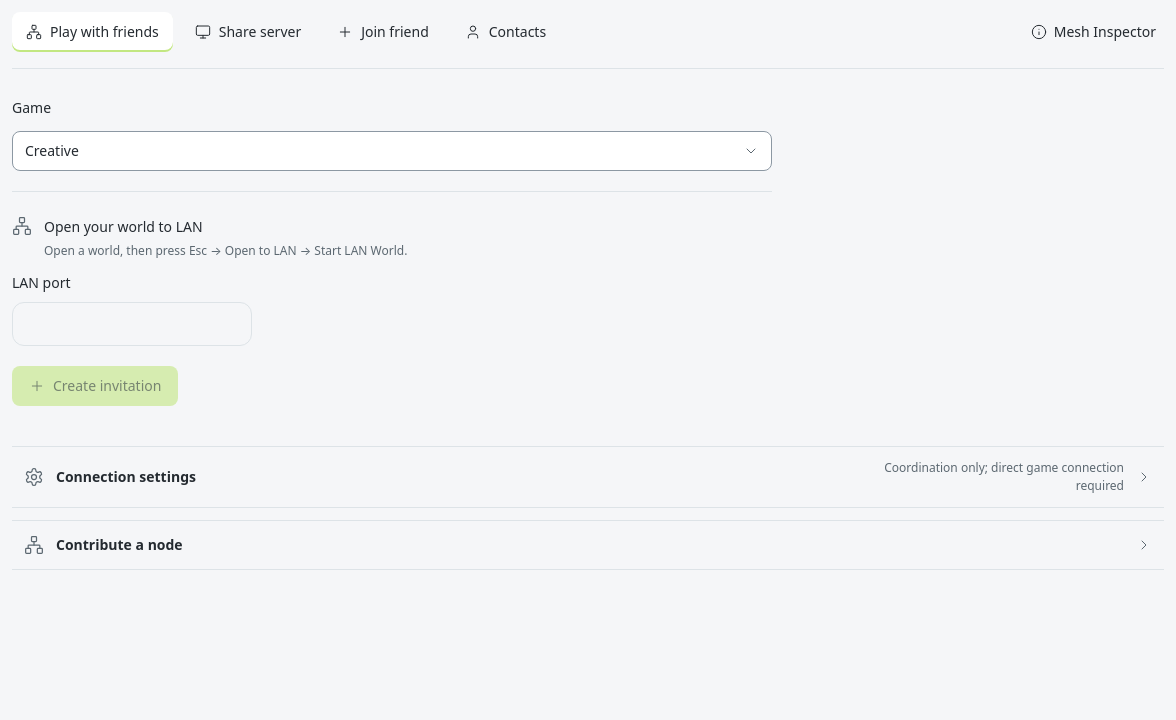
asks for a new invitation when the real protocol rejects an invalid or expired invite
The width and height of the screenshot is (1176, 720).
Click the button "Join friend" at point(383, 32), box [323,12,443,52]
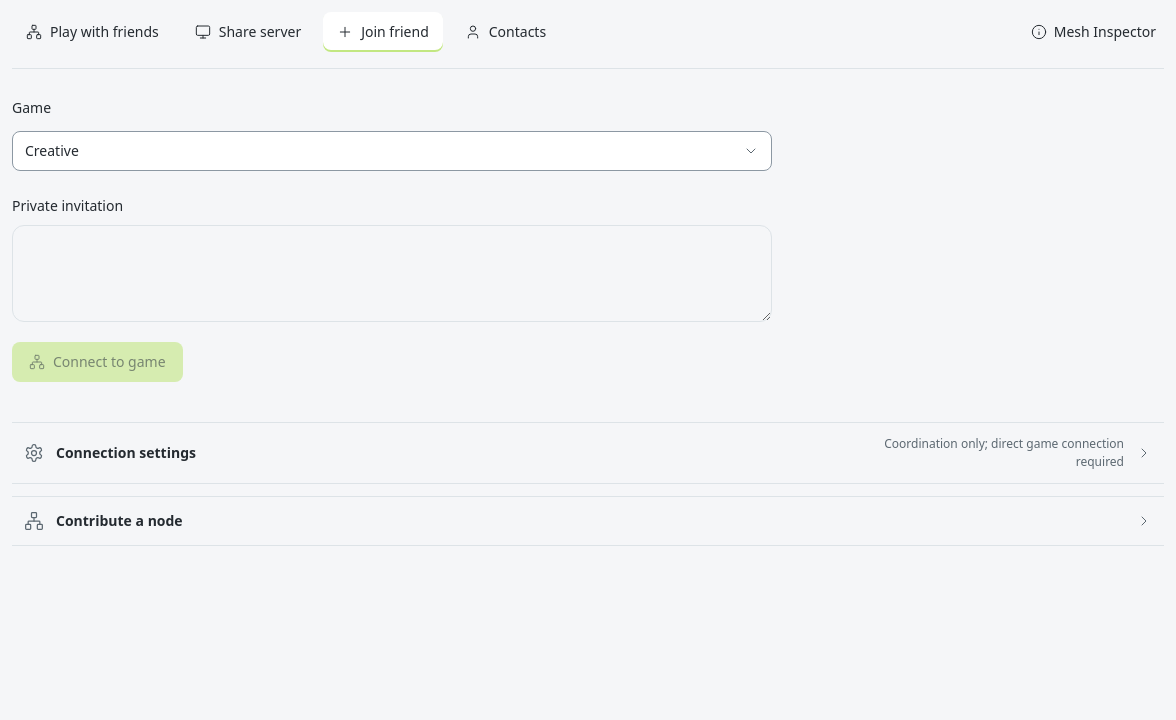
Type "expired" into the text box labelled "Private invitation" at point(392, 274), box [12,225,772,322]
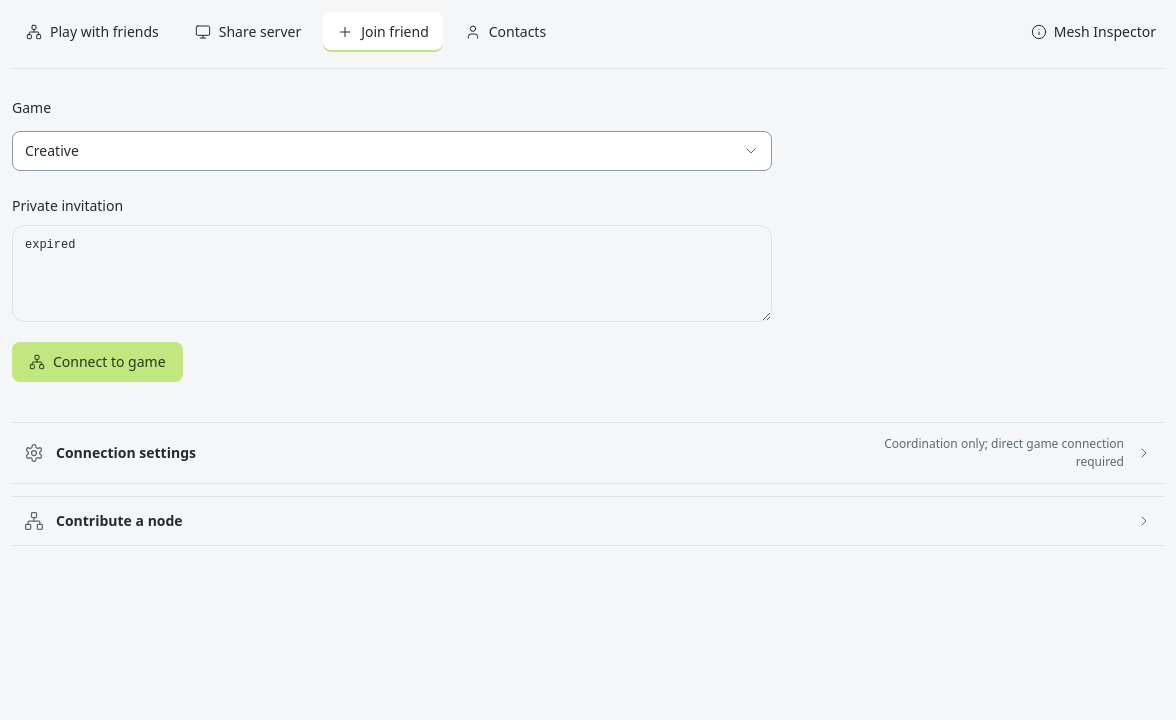
Submit the form, box [12,89,772,406]
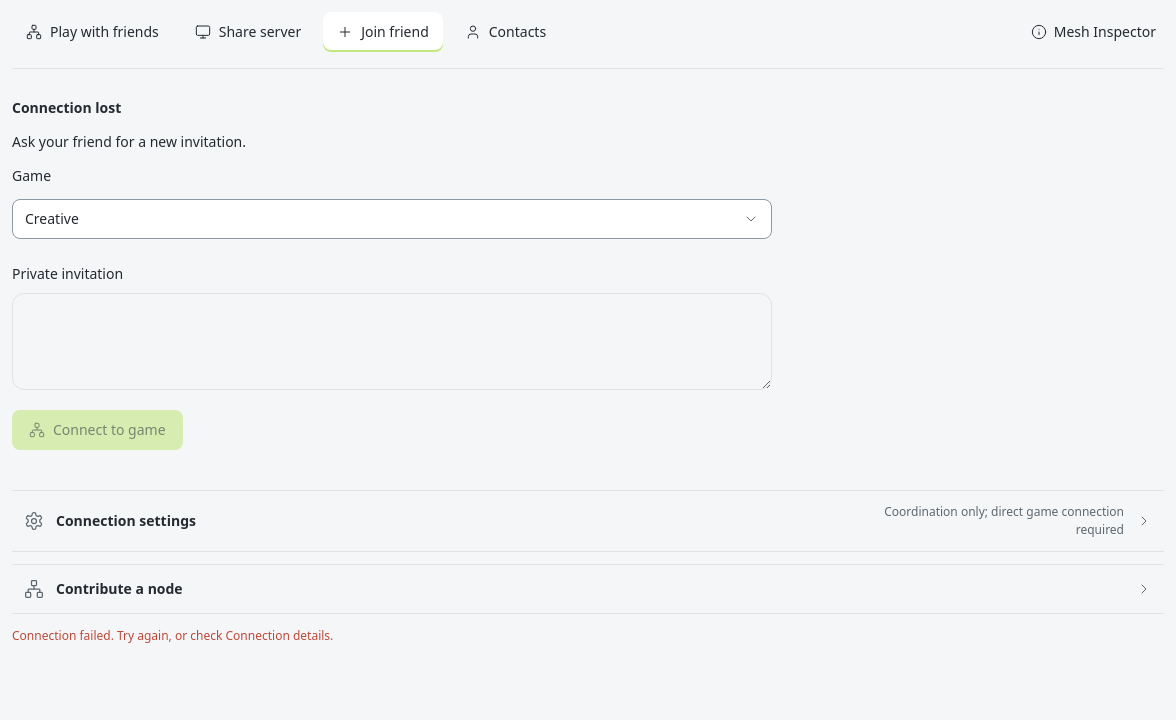
Check: the text "Ask your friend for a new invitation." is shown, box [12,132,246,151]
